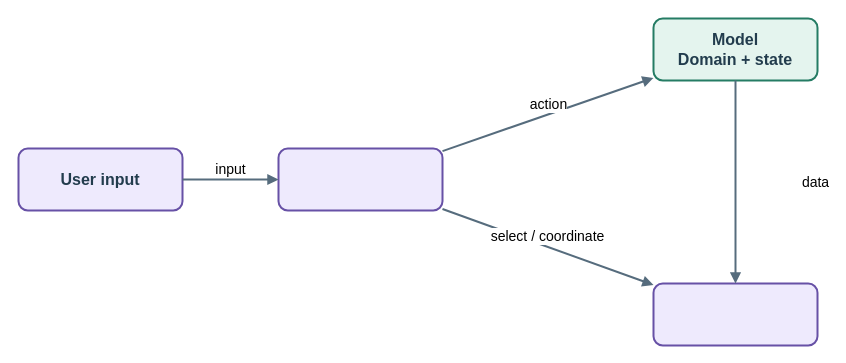
This 846x363 diagram has some shape labels left out. The centre of each missing label's shape, as x and y in pixels:
Controller: (x=360, y=179)
View Rendered output: (x=735, y=314)
